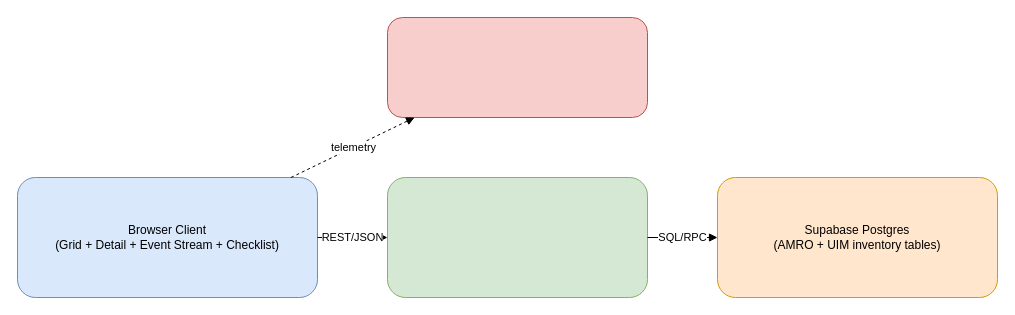
This 1015x315 diagram has some shape labels left out. The centre of each missing label's shape, as x and y in pixels:
AMRO API Layer (Next.js /api/v2/amro/*): the point at 517,237
Observability (Sentry + PostHog + Logs): the point at 517,67
